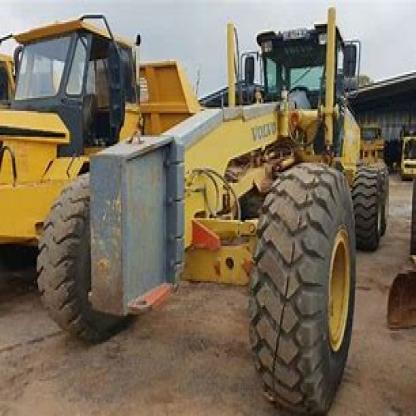bull_dozer/loader/grader: (44, 15, 394, 408)
